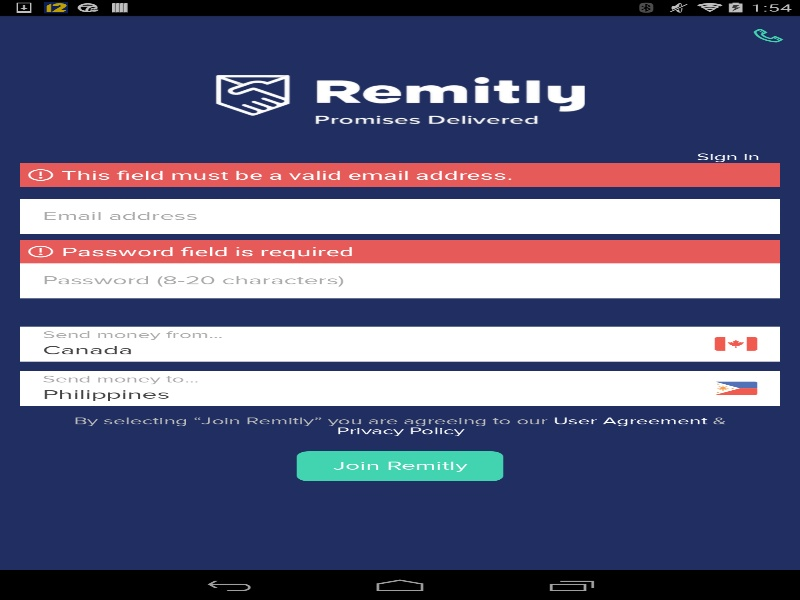Button: (296, 451, 503, 481)
Input: (20, 199, 780, 234), (20, 263, 780, 298)
